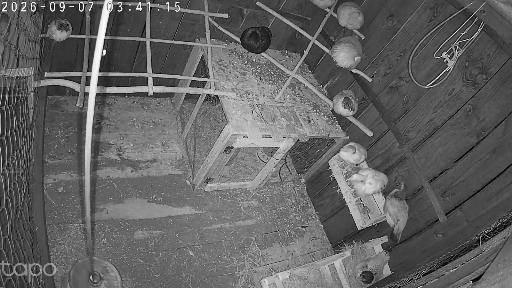frango: (46, 18, 72, 43)
galinha: (383, 182, 408, 247), (355, 246, 391, 288), (346, 167, 389, 196), (240, 26, 274, 55), (337, 1, 366, 30), (332, 89, 358, 118), (339, 142, 369, 167), (311, 0, 335, 9)
galo: (331, 36, 364, 68)
